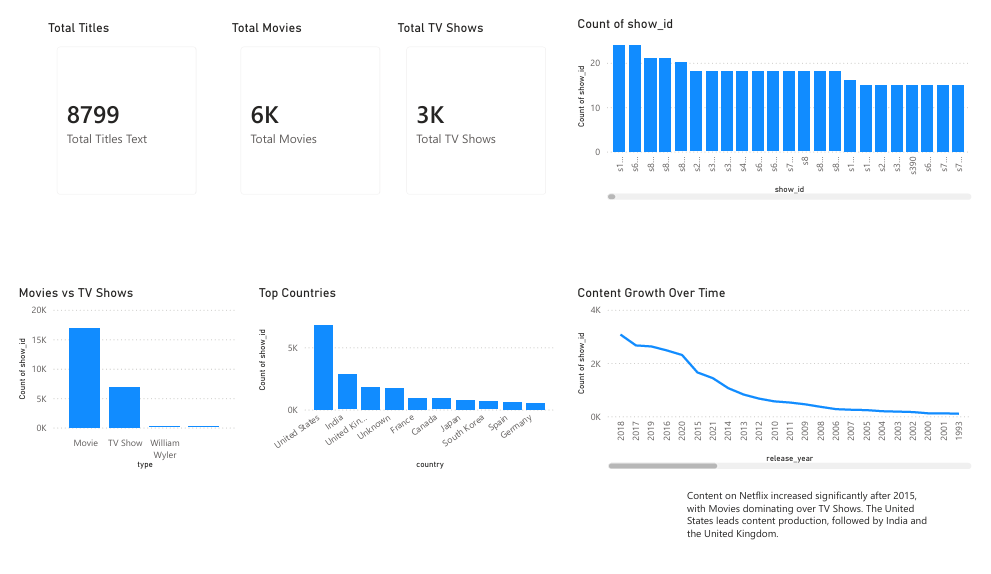

The page's visual inventory and layout, read from the dashboard file:
{"tool":"powerbi","page":{"name":"Dashboard","canvas":[1280,720],"ordinal":0},"visuals":[{"type":"cardVisual","title":"Total Movies","fields":{"Data":["cleaned_netflix.Total Movies"]},"box":[284.1,4.5,220,250],"z":0},{"type":"cardVisual","title":"Total TV Shows","fields":{"Data":["cleaned_netflix.Total TV Shows"]},"box":[504.5,4.5,220,250],"z":1000},{"type":"cardVisual","title":"Total Titles","fields":{"Data":["cleaned_netflix.Total Titles Text"]},"box":[38.6,4.5,220,250],"z":2000},{"type":"columnChart","title":"Count of show_id ","fields":{"Category":["cleaned_netflix.show_id"],"Y":["CountNonNull(cleaned_netflix.show_id)"]},"box":[745.5,0,534.1,250],"z":3000},{"type":"clusteredColumnChart","title":"Movies vs TV Shows","fields":{"Category":["cleaned_netflix.type"],"Y":["CountNonNull(cleaned_netflix.show_id)"]},"box":[0,359.1,300,250],"z":4000},{"type":"lineChart","title":"Content Growth Over Time","fields":{"Category":["cleaned_netflix.release_year"],"Y":["CountNonNull(cleaned_netflix.show_id)"]},"box":[745.5,359.1,534.1,250],"z":5000},{"type":"columnChart","title":"Top Countries","fields":{"Category":["cleaned_netflix.country"],"Y":["CountNonNull(cleaned_netflix.show_id)"]},"box":[320.5,359.1,404.5,250],"z":6000},{"type":"textbox","box":[890.9,625,343.2,79.5],"z":6001}]}

Visuals, with their boxes in screenshot pixels (x1, y1, x2, y2), scaled from the page's 1280x720 canvas onto the 991x574 screenshot:
"Total Movies" cardVisual: {"x1": 220, "y1": 4, "x2": 390, "y2": 203}
"Total TV Shows" cardVisual: {"x1": 391, "y1": 4, "x2": 561, "y2": 203}
"Total Titles" cardVisual: {"x1": 30, "y1": 4, "x2": 200, "y2": 203}
"Count of show_id " columnChart: {"x1": 577, "y1": 0, "x2": 990, "y2": 199}
"Movies vs TV Shows" clusteredColumnChart: {"x1": 0, "y1": 286, "x2": 232, "y2": 486}
"Content Growth Over Time" lineChart: {"x1": 577, "y1": 286, "x2": 990, "y2": 486}
"Top Countries" columnChart: {"x1": 248, "y1": 286, "x2": 561, "y2": 486}
textbox: {"x1": 690, "y1": 498, "x2": 955, "y2": 562}
